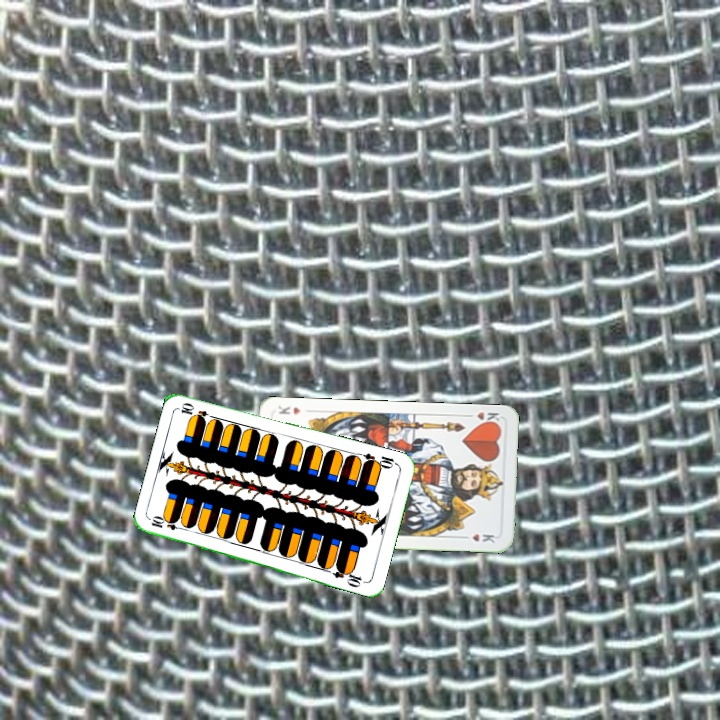E10: (360, 449, 400, 471), (147, 514, 188, 533)
HK: (462, 408, 502, 427)
